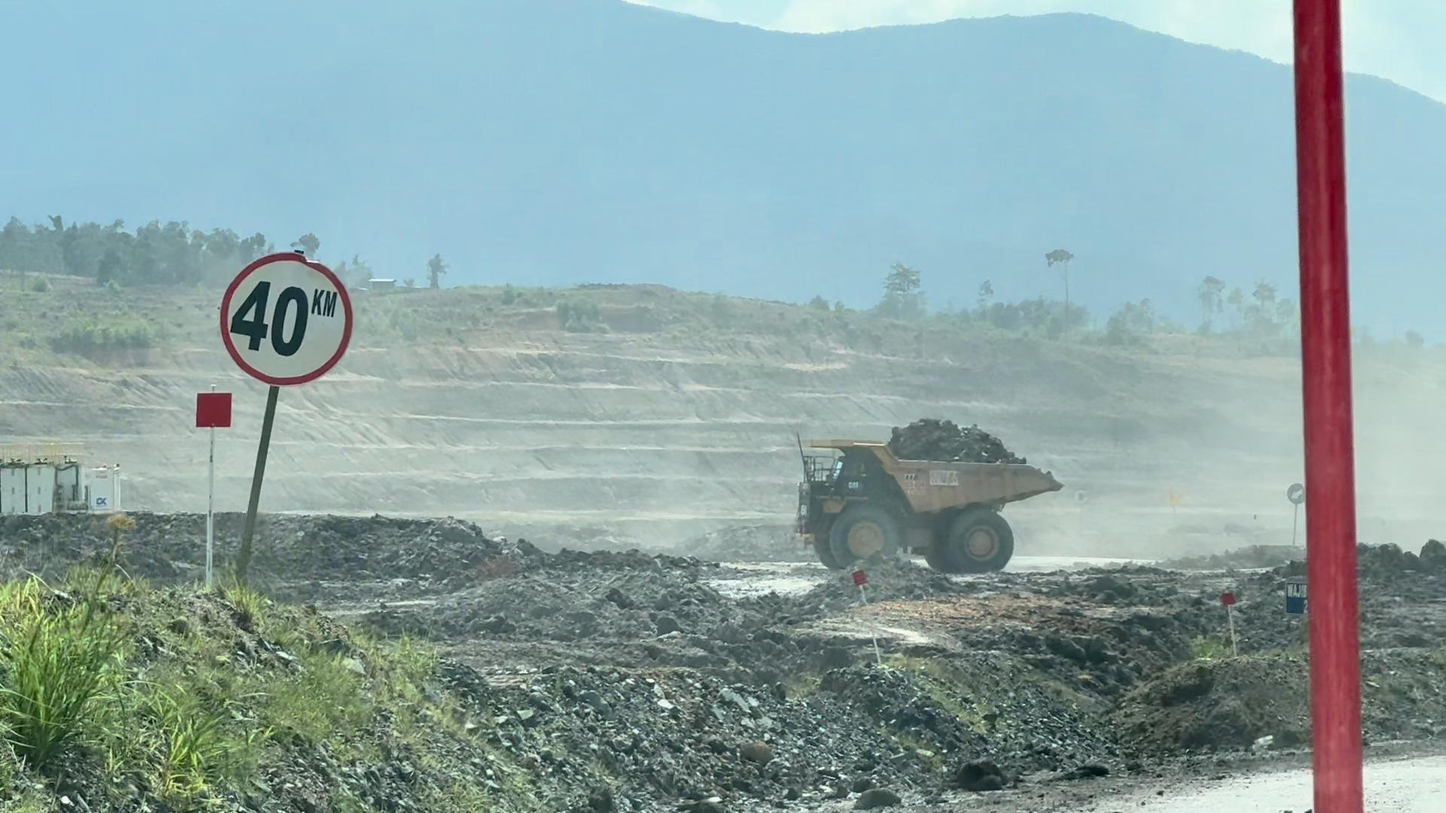HD-Truck: (796, 439, 1063, 573)
